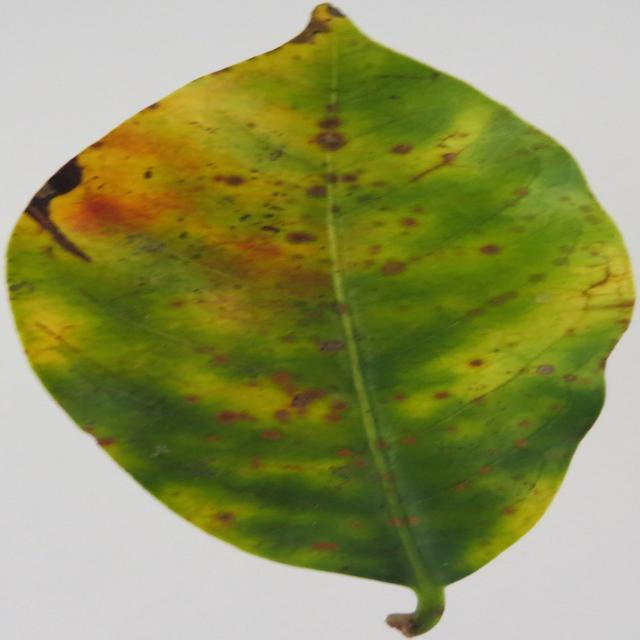DeficienciaNutricional-Fosforo: (10, 5, 632, 634)
